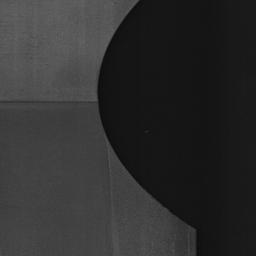Crescent gap: (98, 0, 194, 229)
